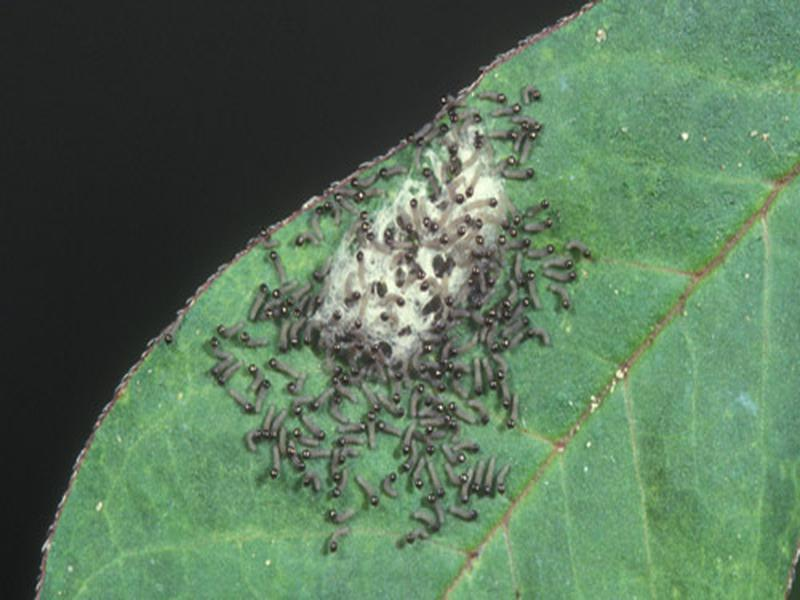Armyworms: (225, 362, 519, 534), (320, 224, 550, 341), (389, 147, 530, 217)
